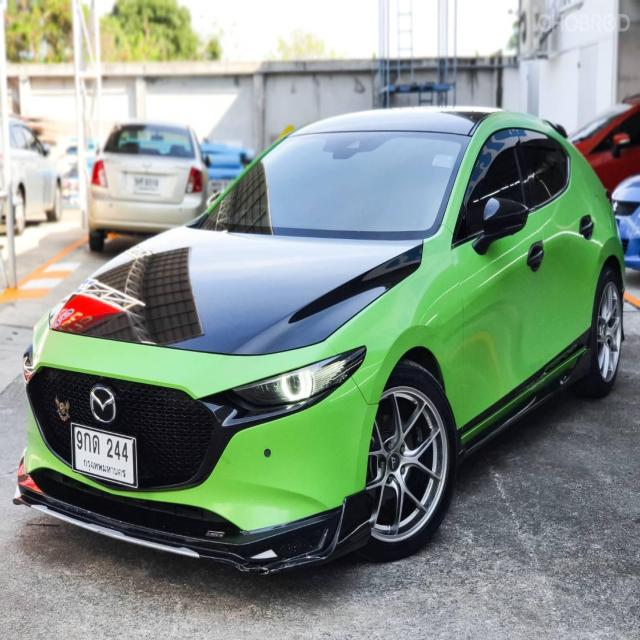license_plate: (68, 422, 142, 489)
